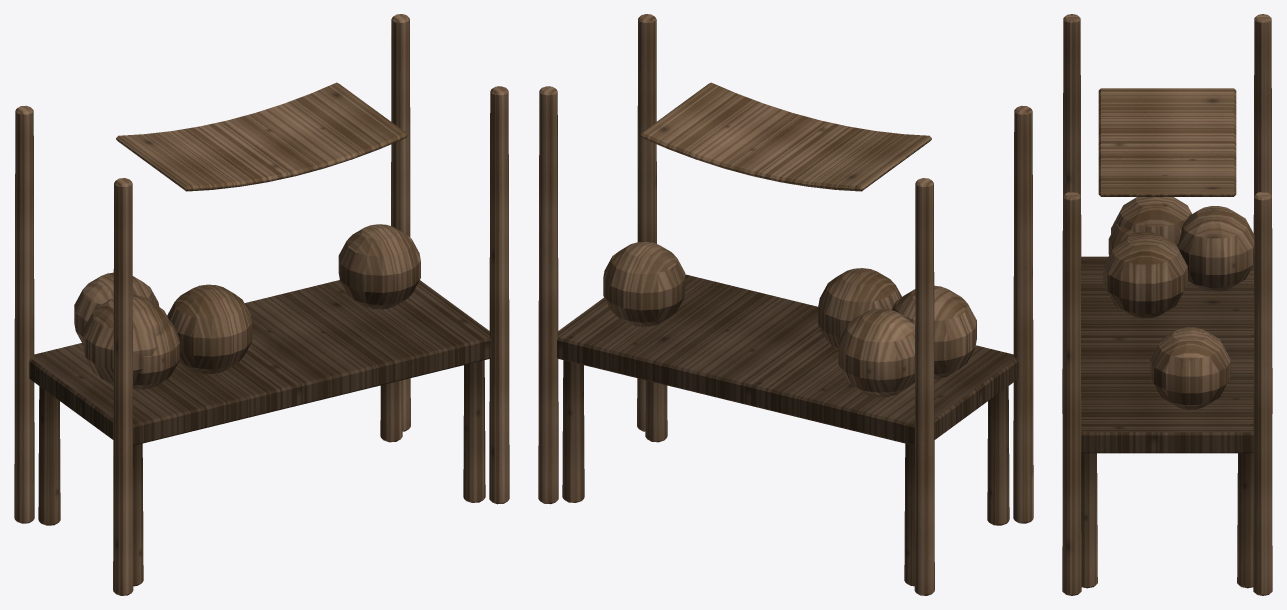
The model's file is p_stall.hi.glb.
The picture shows the model from 3 angles, left to right: view 1: azimuth 30°, elevation 25°; view 2: azimuth 150°, elevation 25°; view 3: azimuth 270°, elevation 25°; orthographic projection. The views are drawn at different scales.
Parts seen in each view (by area): view 1: stall; view 2: stall; view 3: stall.
Boxes of the visible parts, <box> form: stall: <box>14,14,509,595</box>; stall: <box>538,14,1033,595</box>; stall: <box>1062,14,1272,595</box>.
Size of the model in its own units: 2.3 by 2.3 by 1.1.
Materials: 1 (1 with a texture image).
